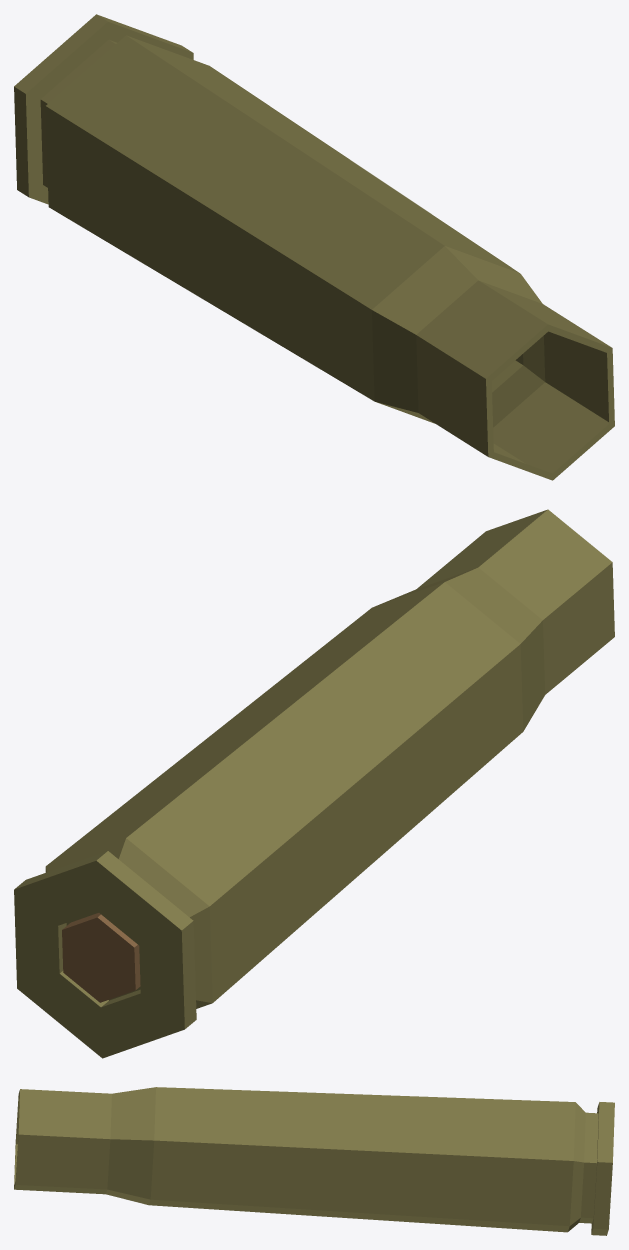
Rendered from SM_AK-308_Casing.fbx.
3 renders of one model, top to bottom at view 1: azimuth 30°, elevation 25°; view 2: azimuth 150°, elevation 25°; view 3: azimuth 270°, elevation 25°, orthographic. The views are drawn at different scales.
Visible parts, largest first — view 1: SM_AK-308_Casing; view 2: SM_AK-308_Casing; view 3: SM_AK-308_Casing.
Part boxes in pixels (x1,y1,x2,y2): SM_AK-308_Casing: [14, 14, 614, 480]; SM_AK-308_Casing: [14, 509, 614, 1058]; SM_AK-308_Casing: [14, 1087, 614, 1235].
Bounding box in the file's own units: 1.15 × 1.48 × 5.41.
